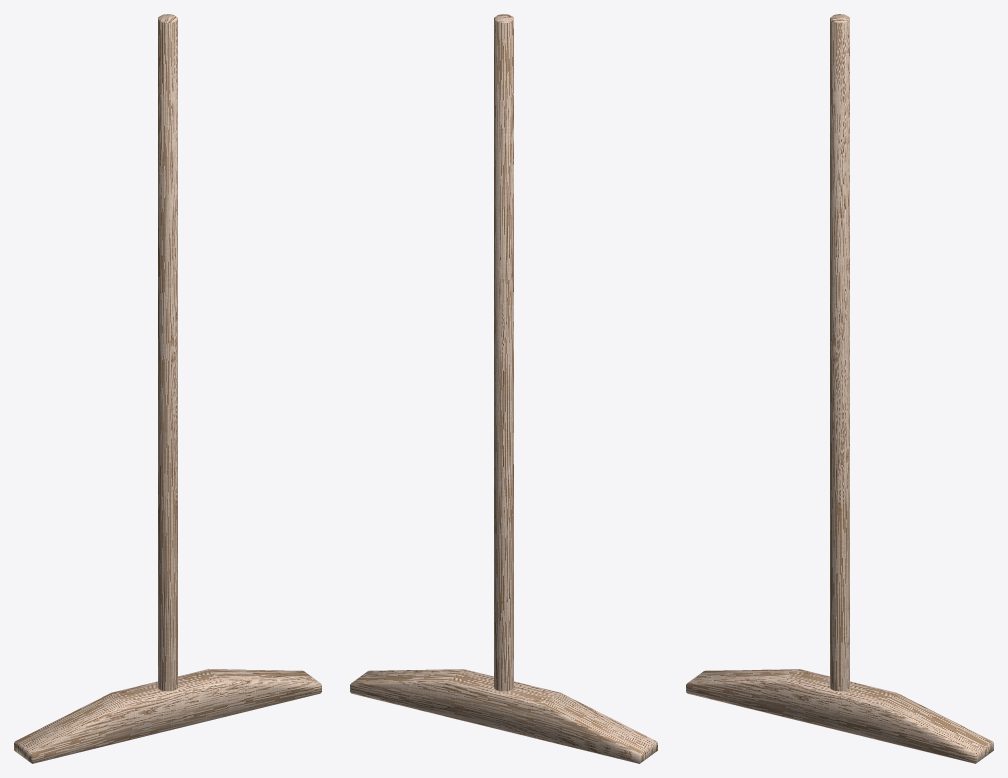
File: mop.glb
3 renders of one model, left to right at view 1: azimuth 30°, elevation 25°; view 2: azimuth 150°, elevation 25°; view 3: azimuth 330°, elevation 25°, orthographic.
Parts seen in each view (by area): view 1: Cylinder; view 2: Cylinder; view 3: Cylinder.
Boxes of the visible parts, bbox=[...] form: Cylinder: bbox=[14, 14, 321, 763]; Cylinder: bbox=[350, 14, 657, 763]; Cylinder: bbox=[686, 14, 993, 763].
Bounding box in the file's own units: 0.54 × 1.25 × 0.06.
1 material, 1 textured.
